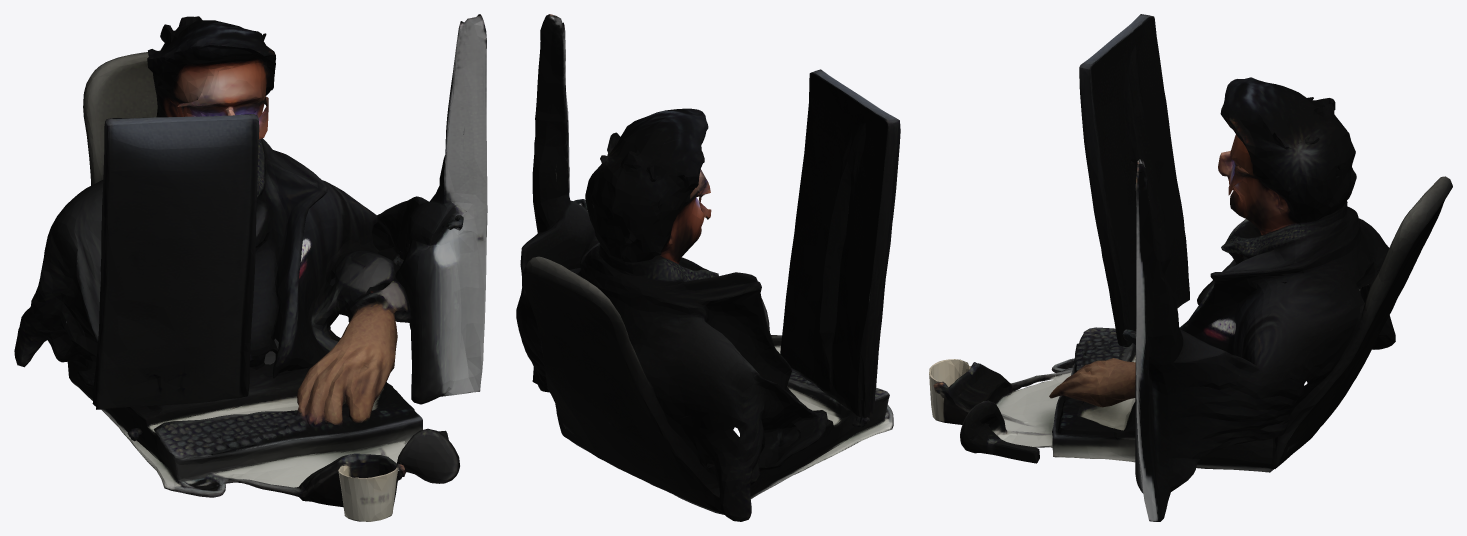
Rendered from tofayel-bro.glb.
3 views of the same model, side by side, from view 1: azimuth 30°, elevation 25°; view 2: azimuth 150°, elevation 25°; view 3: azimuth 270°, elevation 25° (orthographic). The views are drawn at different scales.
Parts seen in each view (by area): view 1: world; view 2: world; view 3: world.
Part boxes in pixels (bbox=[...]): world: bbox=[14, 14, 487, 521]; world: bbox=[516, 14, 900, 521]; world: bbox=[929, 14, 1452, 521].
Size of the model in its own units: 0.7775 by 0.7492 by 1.
1 material, 1 textured.
